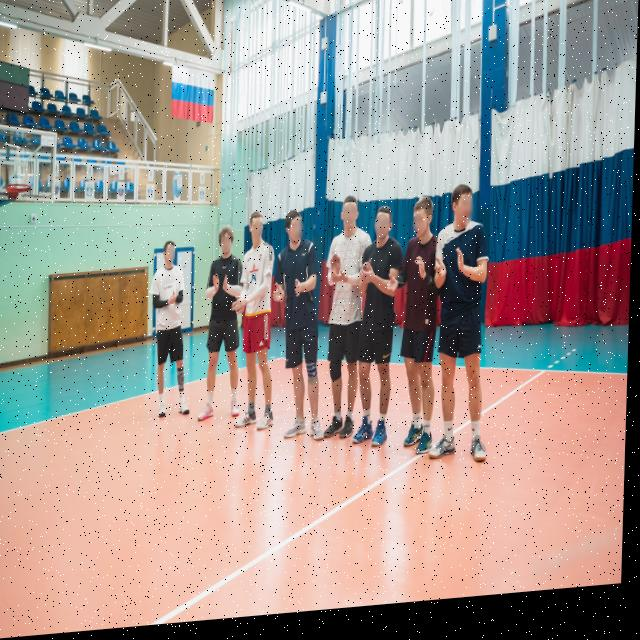Person: (434, 177, 497, 481), (353, 196, 404, 466), (324, 193, 374, 448), (402, 200, 446, 481), (237, 209, 285, 450), (286, 214, 329, 451), (149, 241, 200, 433), (204, 226, 248, 426)
